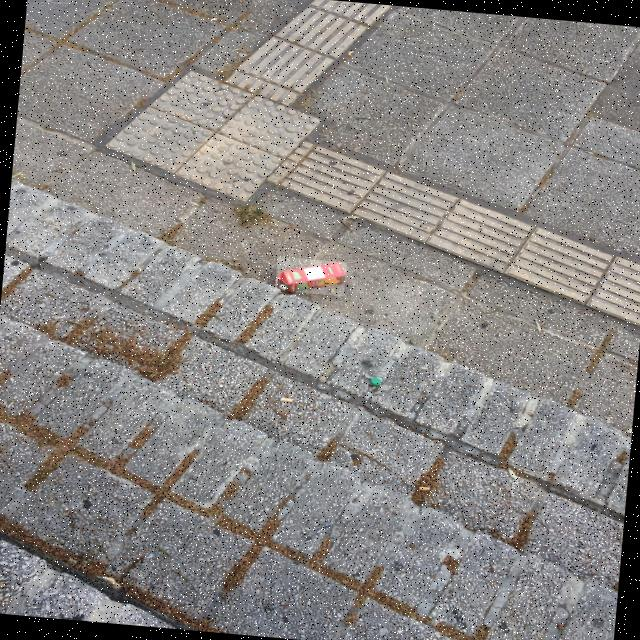Cigarette: (280, 397, 293, 402), (419, 487, 429, 491), (349, 52, 354, 54)
Drink carton: (276, 262, 345, 291)
Plastic bottle cap: (370, 377, 381, 385)
